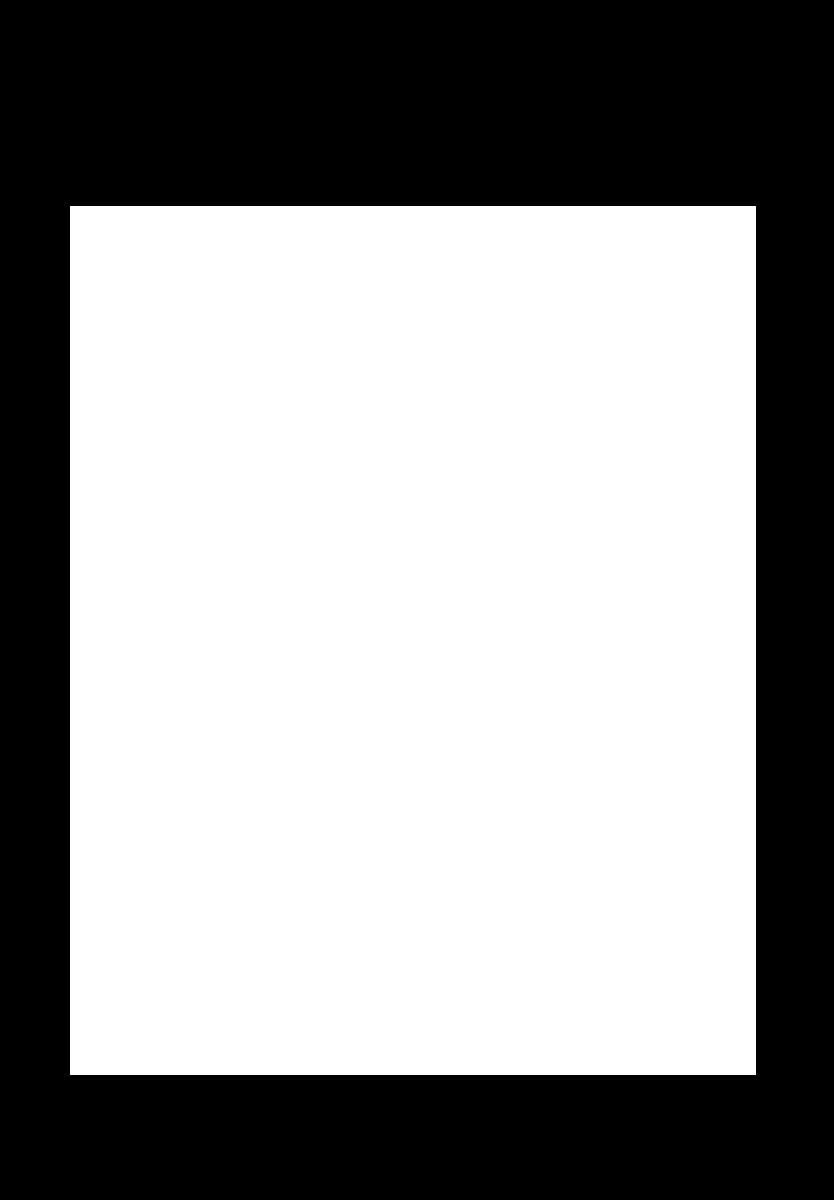table: (70, 206, 756, 1075)
